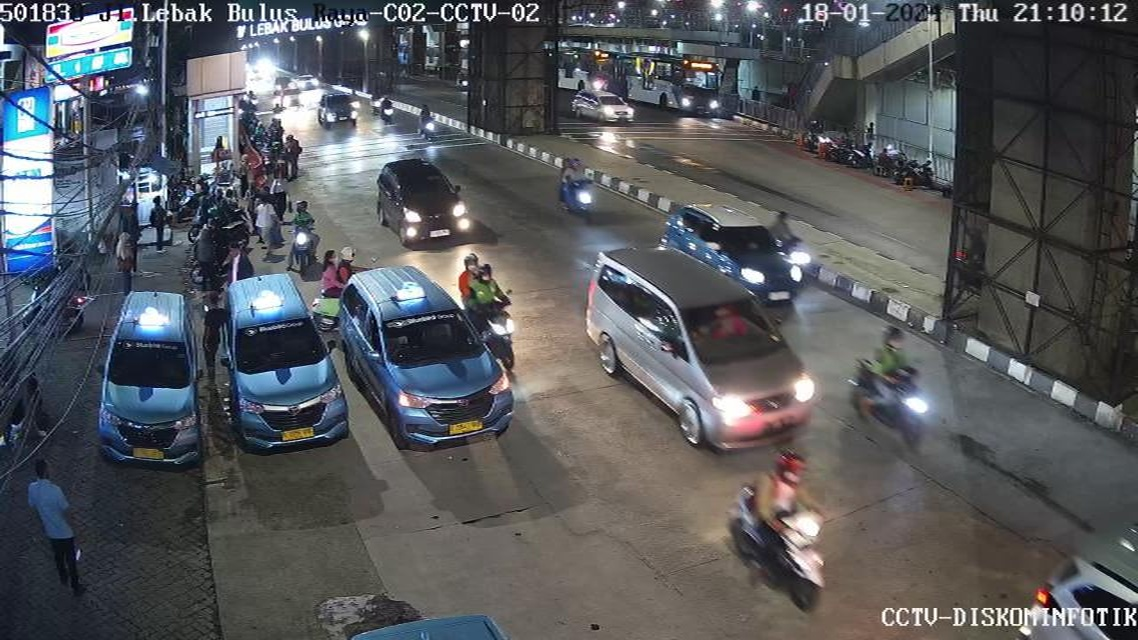Gerobak: (133, 162, 172, 229)
